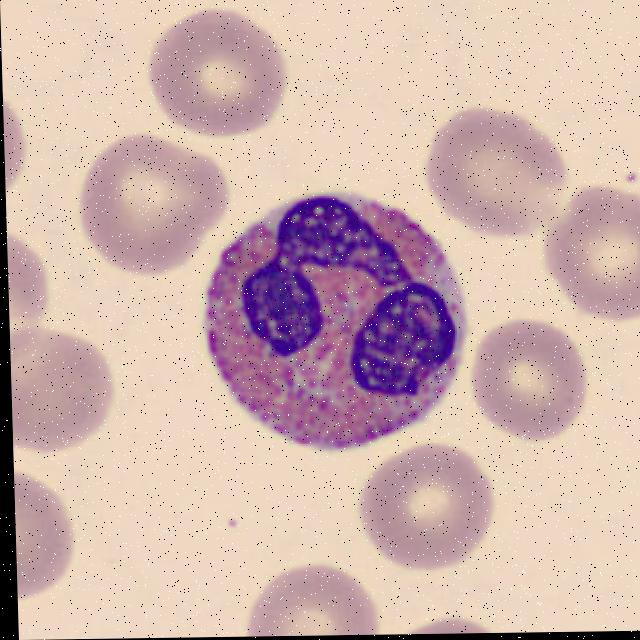eosinophil: (191, 181, 472, 451)
rbc: (134, 0, 295, 152), (81, 135, 237, 280), (415, 108, 572, 240), (354, 439, 501, 572), (10, 320, 130, 459), (462, 319, 591, 440), (235, 548, 400, 637), (537, 186, 640, 321), (14, 470, 103, 603), (7, 220, 64, 341), (384, 599, 536, 635), (3, 89, 39, 210)
